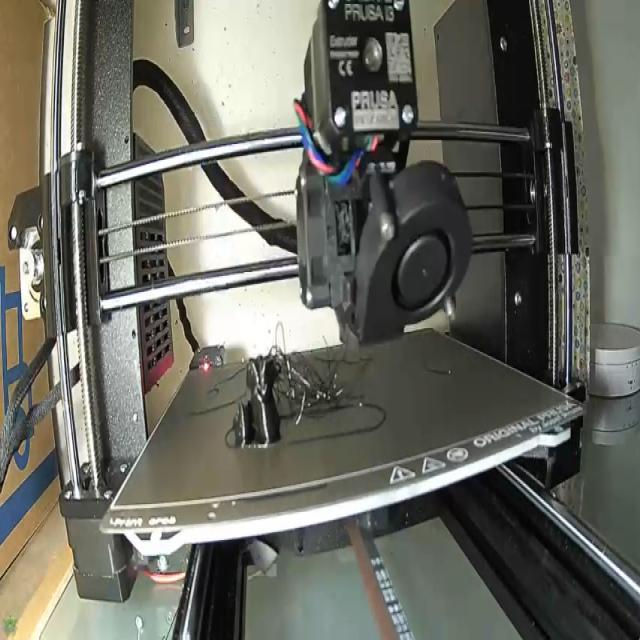spaghetti: (268, 324, 356, 424)
